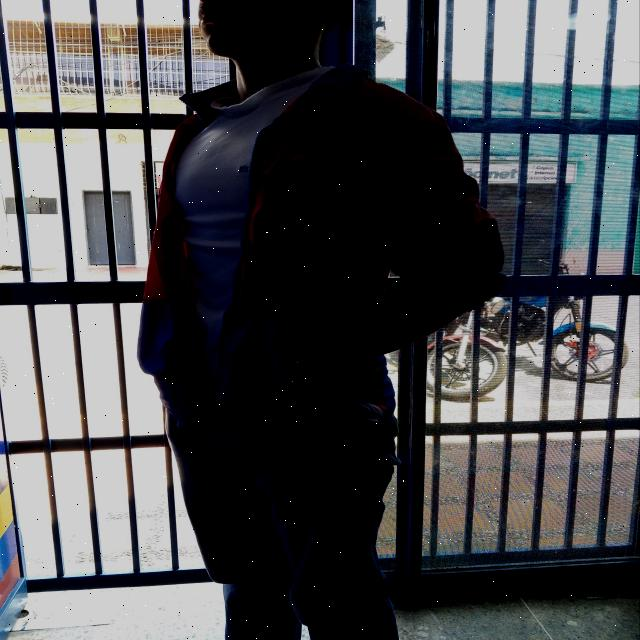chaqueta_unefa: (137, 64, 509, 457)
